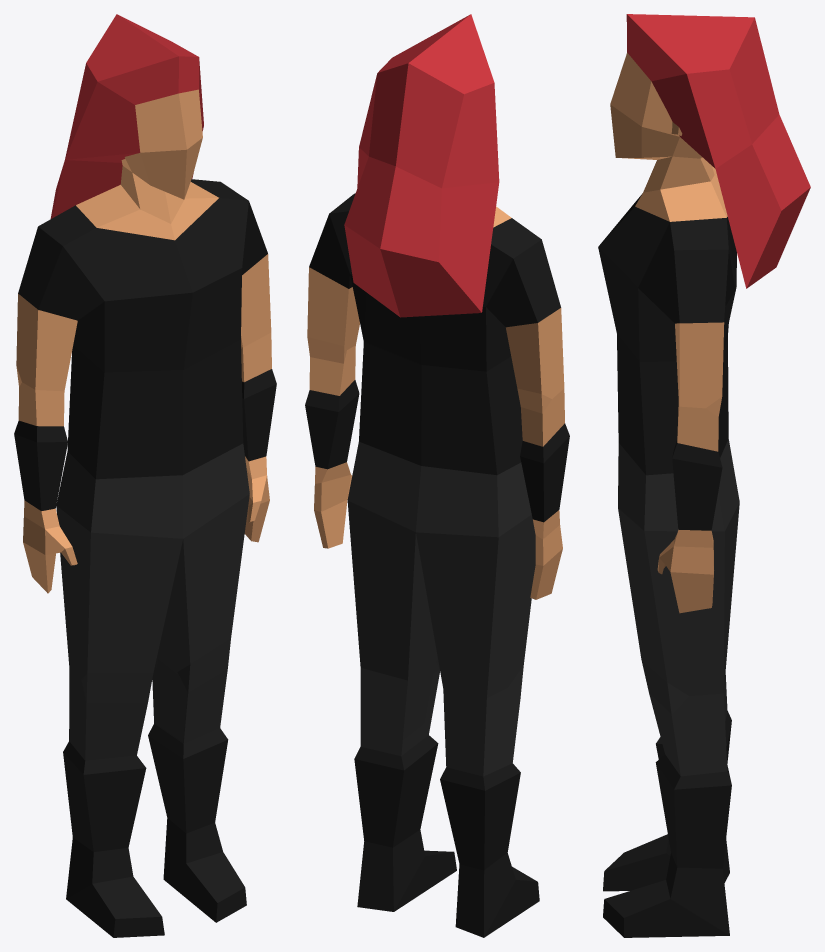
File: people_woman-metalhead.fbx
3 renders of one model, left to right at view 1: azimuth 30°, elevation 25°; view 2: azimuth 150°, elevation 25°; view 3: azimuth 270°, elevation 25°, orthographic. The views are drawn at different scales.
Visible parts, largest first — view 1: people_woman_metalhead; view 2: people_woman_metalhead; view 3: people_woman_metalhead.
Part boxes in pixels (x1,y1,x2,y2): people_woman_metalhead: (14, 14, 276, 937); people_woman_metalhead: (305, 14, 569, 937); people_woman_metalhead: (598, 14, 810, 937).
Size of the model in its own units: 58.11 by 200 by 43.32.
